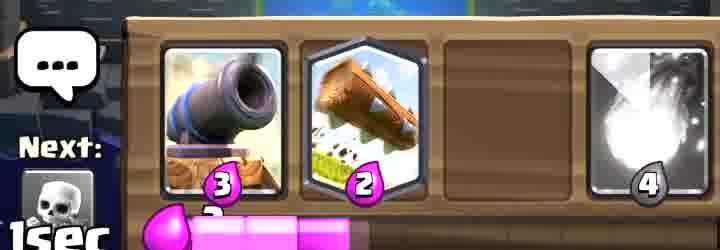log: (310, 43, 423, 190)
